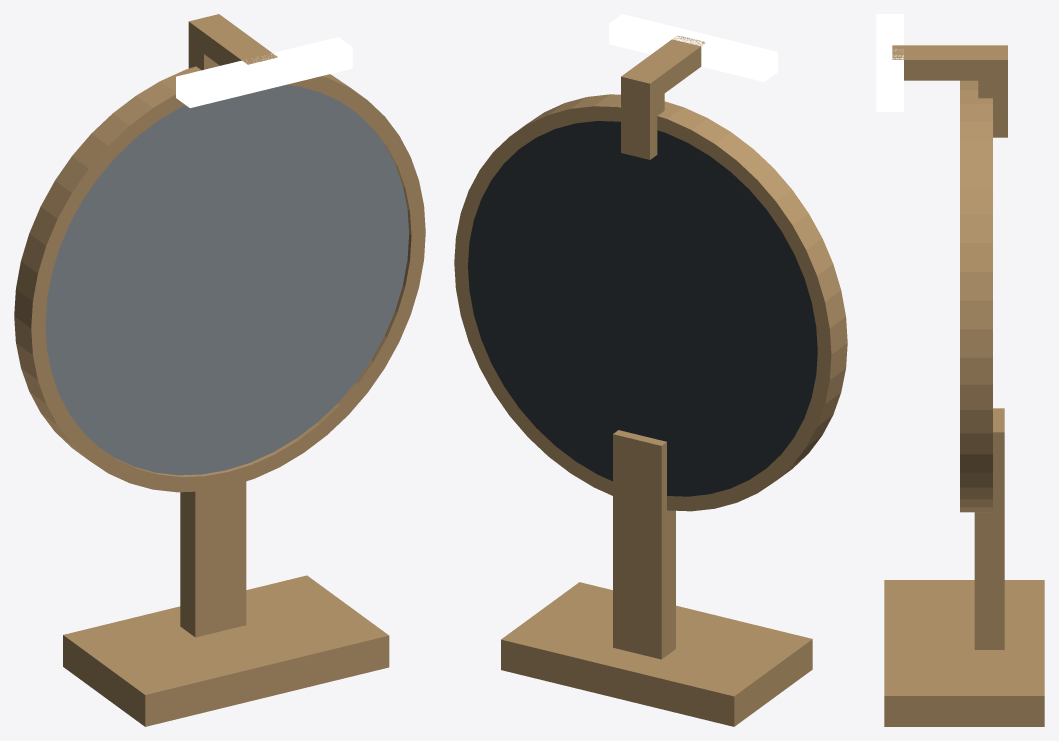
File: variant-round.glb
3 views of the same model, side by side, from view 1: azimuth 30°, elevation 25°; view 2: azimuth 150°, elevation 25°; view 3: azimuth 270°, elevation 25° (orthographic). The views are drawn at different scales.
Visible parts, largest first — view 1: makeup-face-center, makeup-base, makeup-frame-center, makeup-post, makeup-lamp, makeup-lamp-arm, makeup-lamp-riser; view 2: makeup-back-center, makeup-base, makeup-frame-center, makeup-post, makeup-lamp, makeup-lamp-arm, makeup-lamp-riser; view 3: makeup-base, makeup-frame-center, makeup-post, makeup-lamp-arm, makeup-lamp, makeup-lamp-riser.
Part boxes in pixels (x1=…): makeup-face-center: x1=45, y1=85, x2=408, y2=475; makeup-base: x1=63, y1=575, x2=389, y2=726; makeup-frame-center: x1=14, y1=66, x2=425, y2=492; makeup-post: x1=180, y1=481, x2=246, y2=637; makeup-lamp: x1=176, y1=37, x2=352, y2=107; makeup-lamp-arm: x1=188, y1=14, x2=277, y2=65; makeup-lamp-riser: x1=188, y1=29, x2=219, y2=70; makeup-back-center: x1=468, y1=121, x2=817, y2=496; makeup-base: x1=501, y1=582, x2=812, y2=726; makeup-frame-center: x1=454, y1=94, x2=847, y2=511; makeup-post: x1=613, y1=430, x2=675, y2=659; makeup-lamp: x1=609, y1=14, x2=777, y2=81; makeup-lamp-arm: x1=621, y1=35, x2=704, y2=103; makeup-lamp-riser: x1=621, y1=80, x2=664, y2=159; makeup-base: x1=884, y1=580, x2=1044, y2=726; makeup-frame-center: x1=960, y1=80, x2=992, y2=512; makeup-post: x1=974, y1=408, x2=1004, y2=649; makeup-lamp-arm: x1=892, y1=45, x2=1007, y2=80; makeup-lamp: x1=876, y1=14, x2=903, y2=111; makeup-lamp-riser: x1=978, y1=67, x2=1007, y2=137.
Size of the model in its own units: 0.3881 by 0.595 by 0.147.
